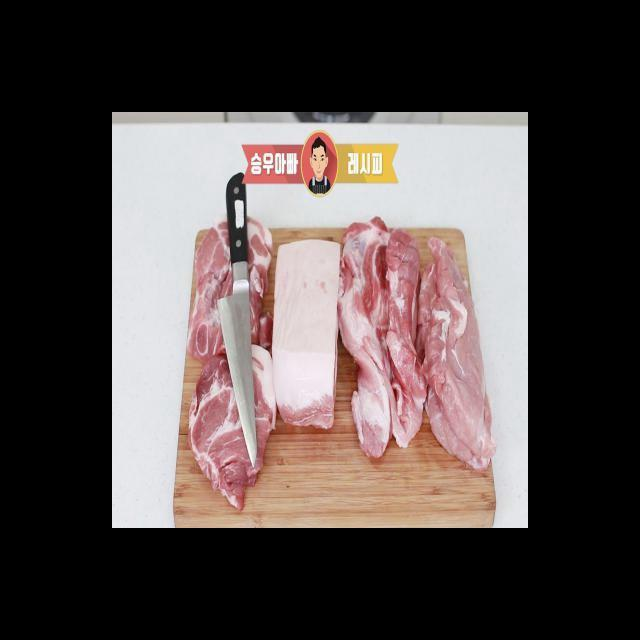pork: (430, 217, 496, 478), (341, 216, 392, 458), (273, 243, 337, 429), (392, 219, 428, 470), (188, 364, 245, 508), (186, 228, 218, 360)
